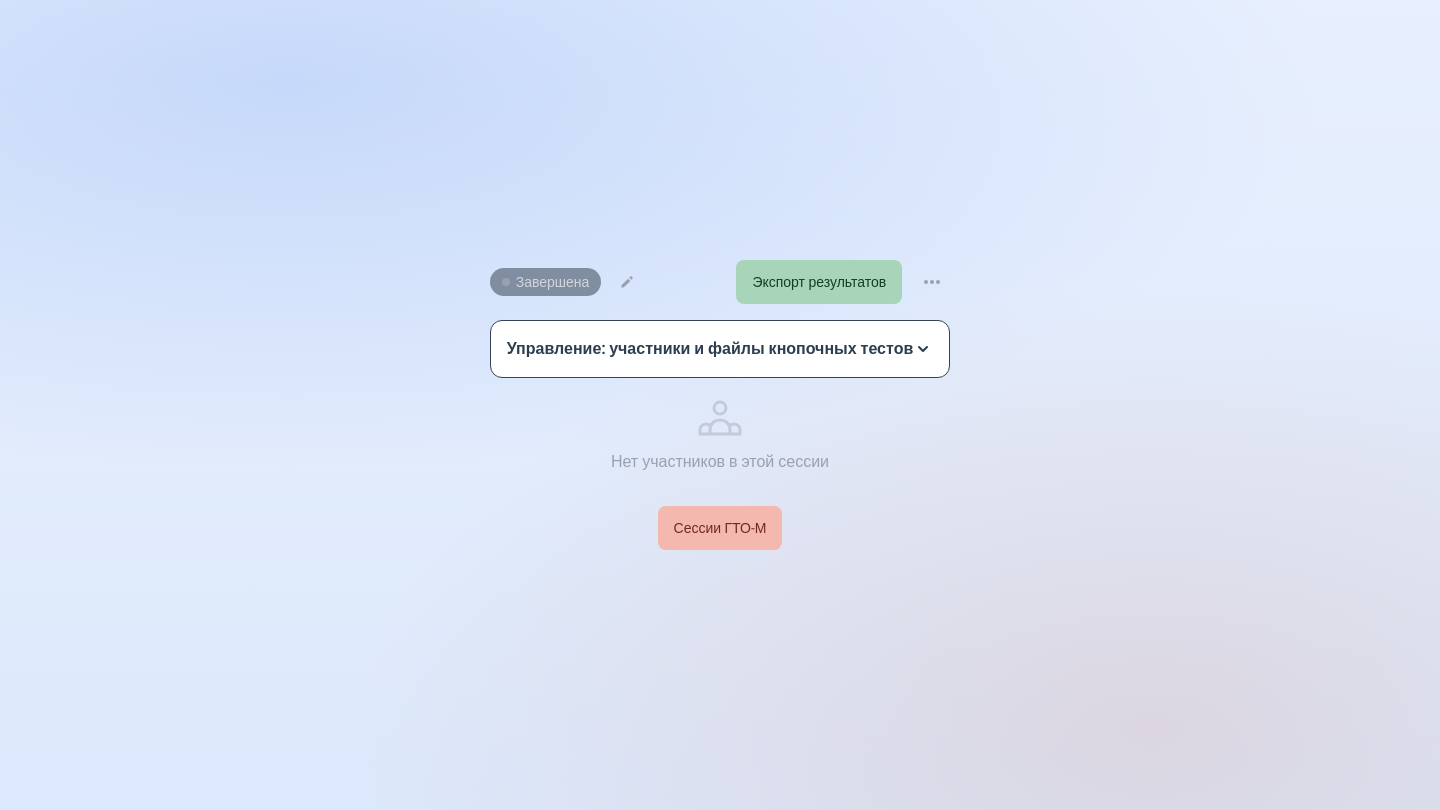
it: /admin/gto/[id] — удаление завершённой сессии › DELETE отвечает ошибкой → тост с сообщением сервера, без перехода
Click the button named "Действия с сессией".
click(932, 282)  # box [914,264,950,300]
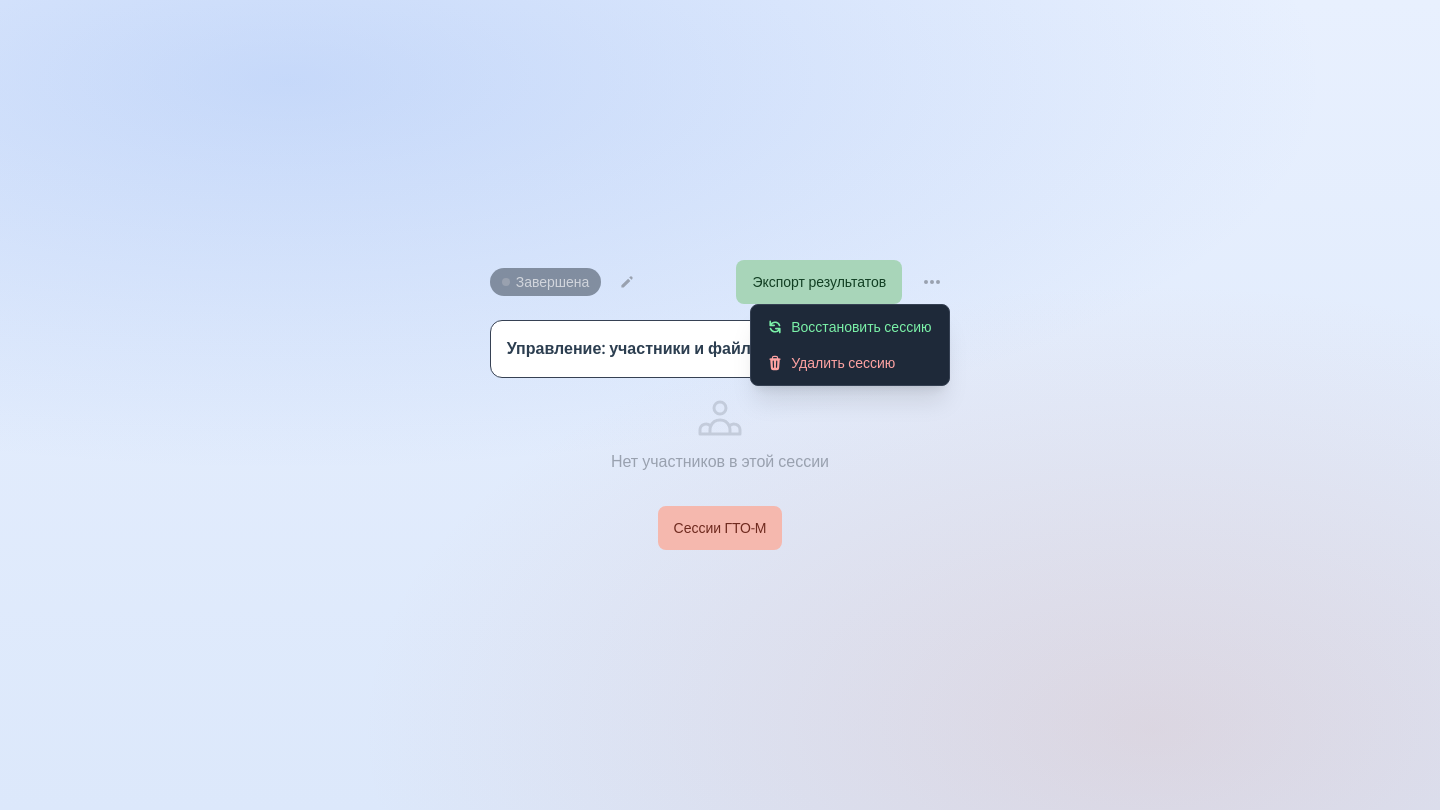
Check: the button "Удалить сессию" is shown
Click the button "Удалить сессию".
click(850, 363)  # box [751,345,949,381]
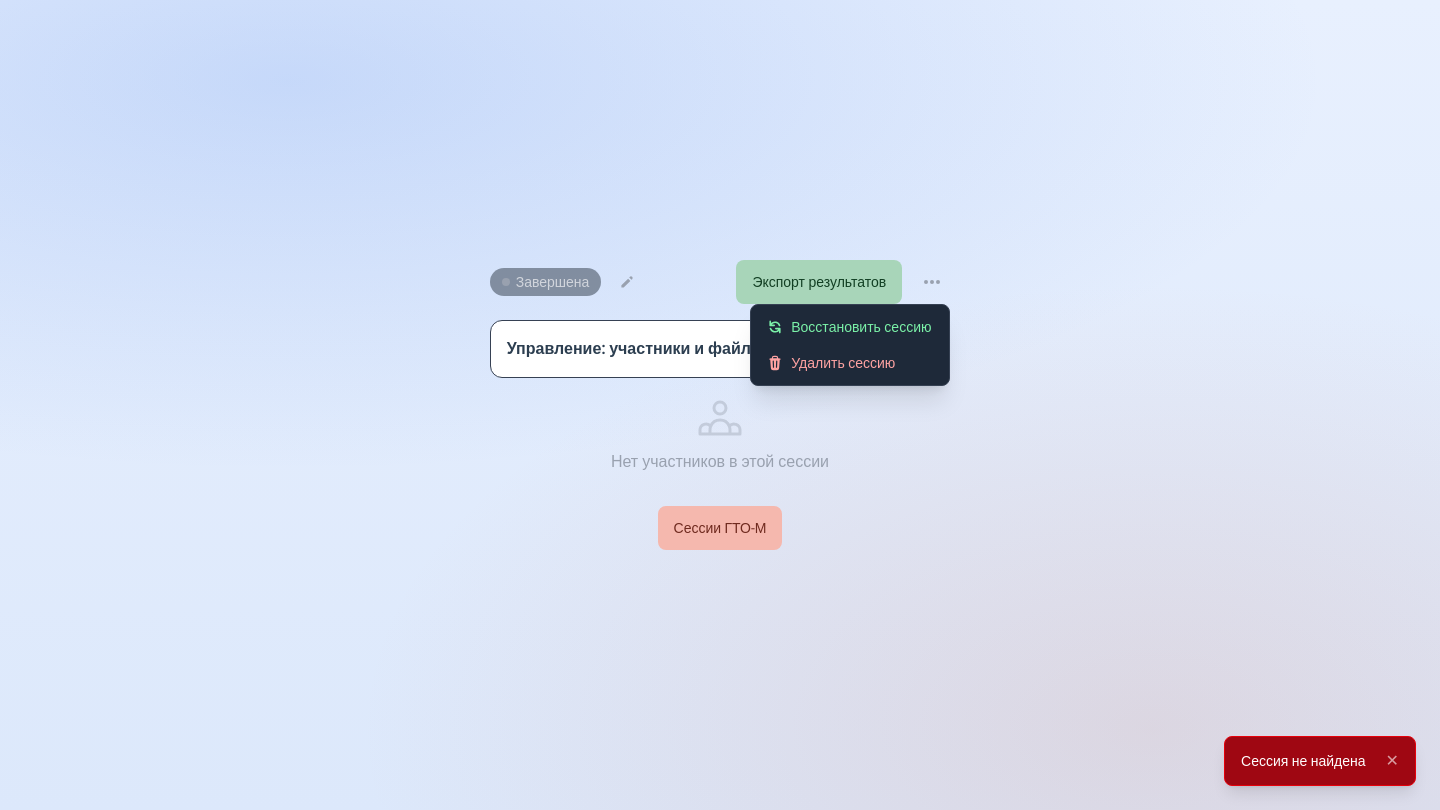
Check: the text "Сессия не найдена" is shown, box [1241,751,1366,771]
